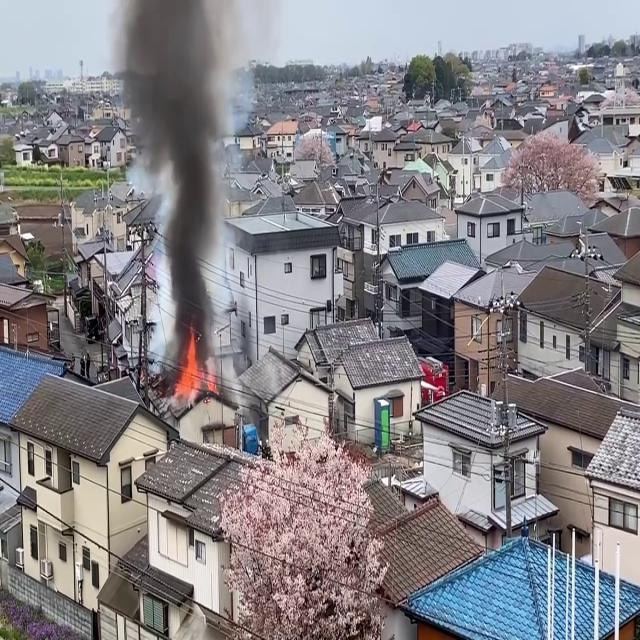Fire: (173, 332, 213, 402)
Smoke: (120, 0, 236, 374)
